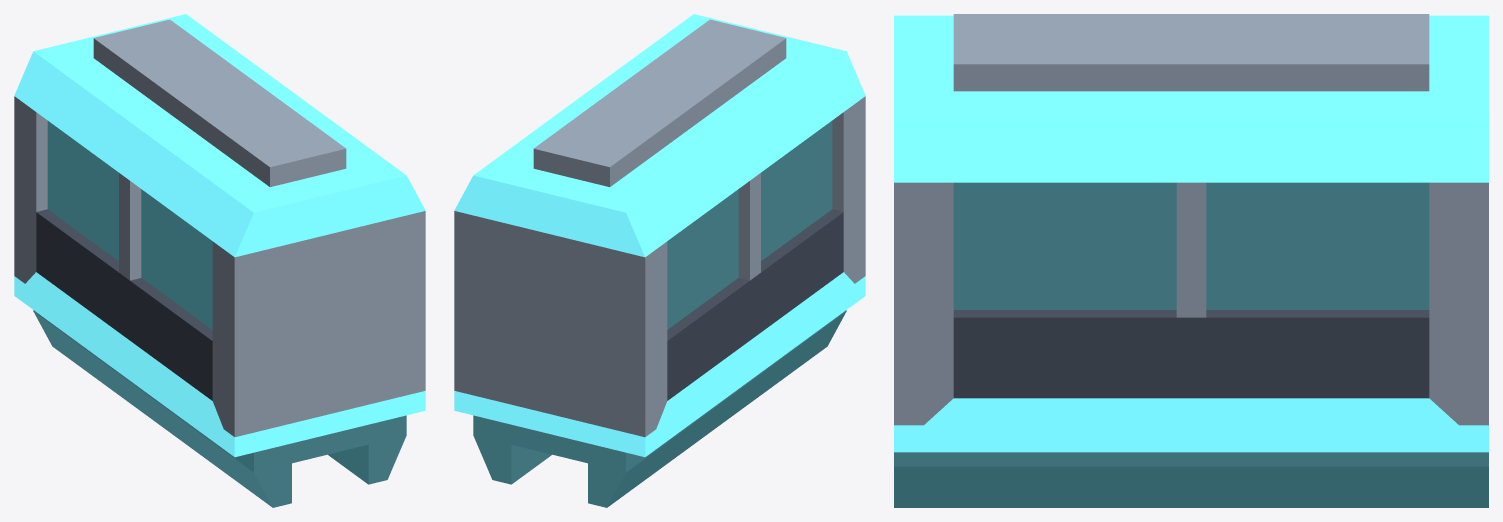
File: monorail_trainPassenger.glb
The picture shows the model from 3 angles, left to right: view 1: azimuth 30°, elevation 25°; view 2: azimuth 150°, elevation 25°; view 3: azimuth 270°, elevation 25°; orthographic projection. The views are drawn at different scales.
Visible parts, largest first — view 1: monorail_trainPassenger; view 2: monorail_trainPassenger; view 3: monorail_trainPassenger.
Part boxes in pixels (x1,y1,x2,y2): monorail_trainPassenger: [14, 14, 425, 507]; monorail_trainPassenger: [454, 14, 865, 507]; monorail_trainPassenger: [894, 14, 1488, 507].
Bounding box in the file's own units: 0.5 × 0.8 × 1.
